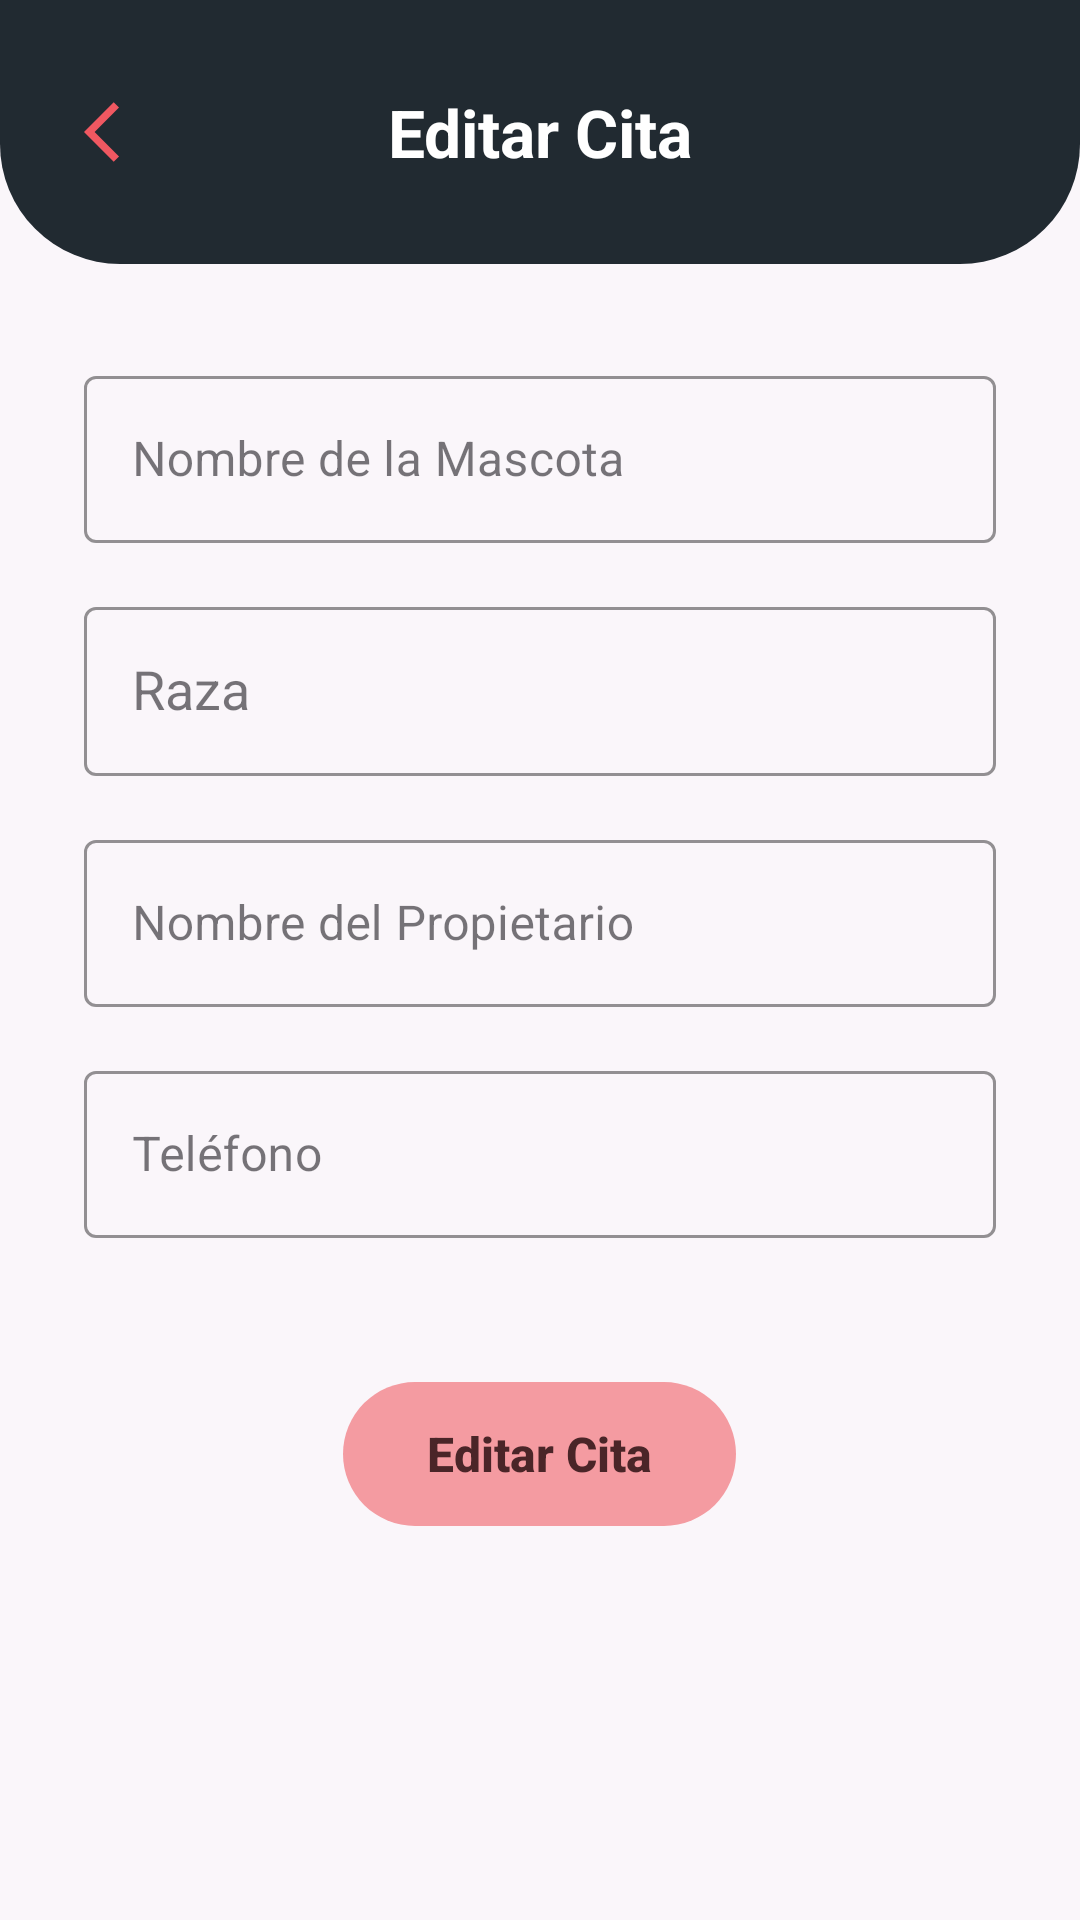

Point at icon controls on the screen. Image size 1080×1920, points as (x,y).
Volver a detalle: (101,132)
